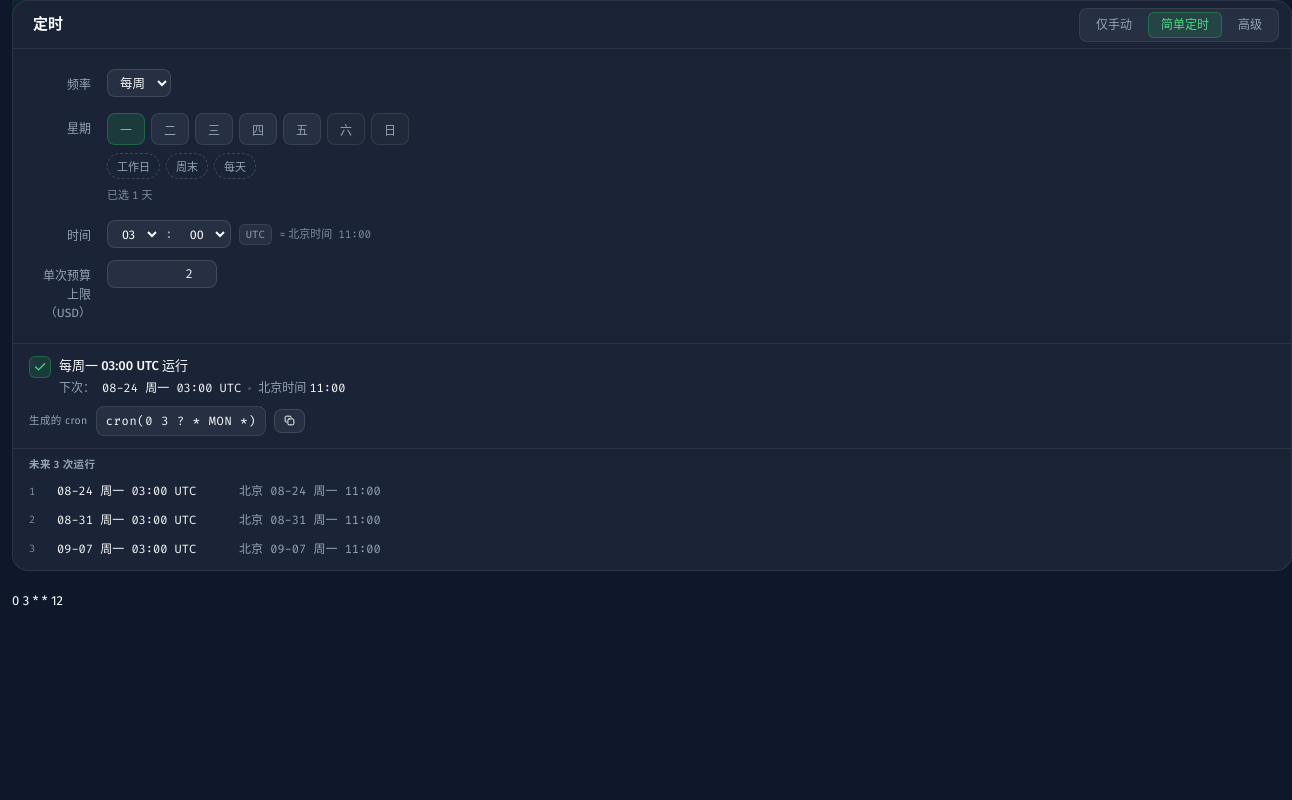
Test: SchedulePicker：简单档 › 星期 chips 可增减，quick 快捷（工作日/周末/每天）整组替换
Click the button with test id "sched-day-3". click: point(214, 129)
box: [195,113,233,145]
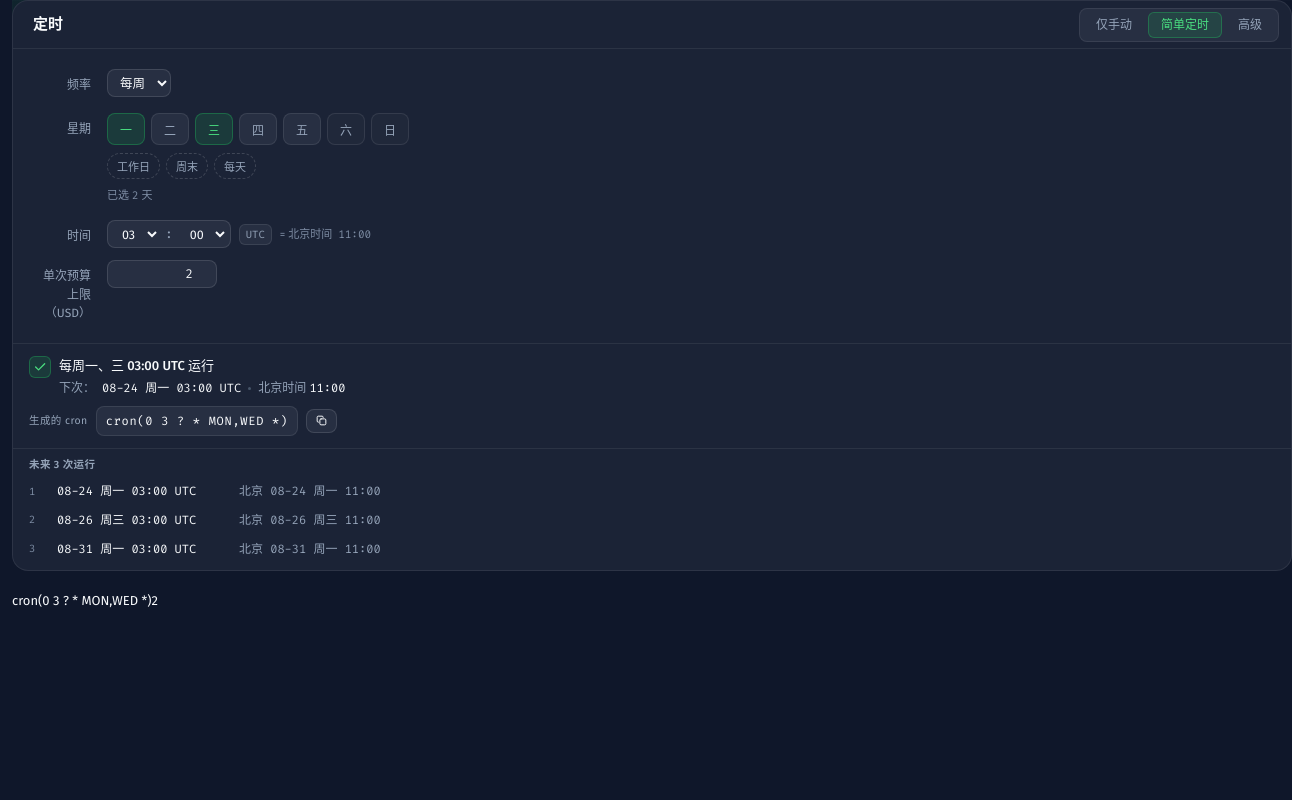
Check: the text "cron(0 3 ? * MON,WED *)" next to "生成的 cron" is shown, box [106,413,288,429]
Click the button with test id "sched-quick-workday". click: point(134, 166)
box: [107,153,160,179]
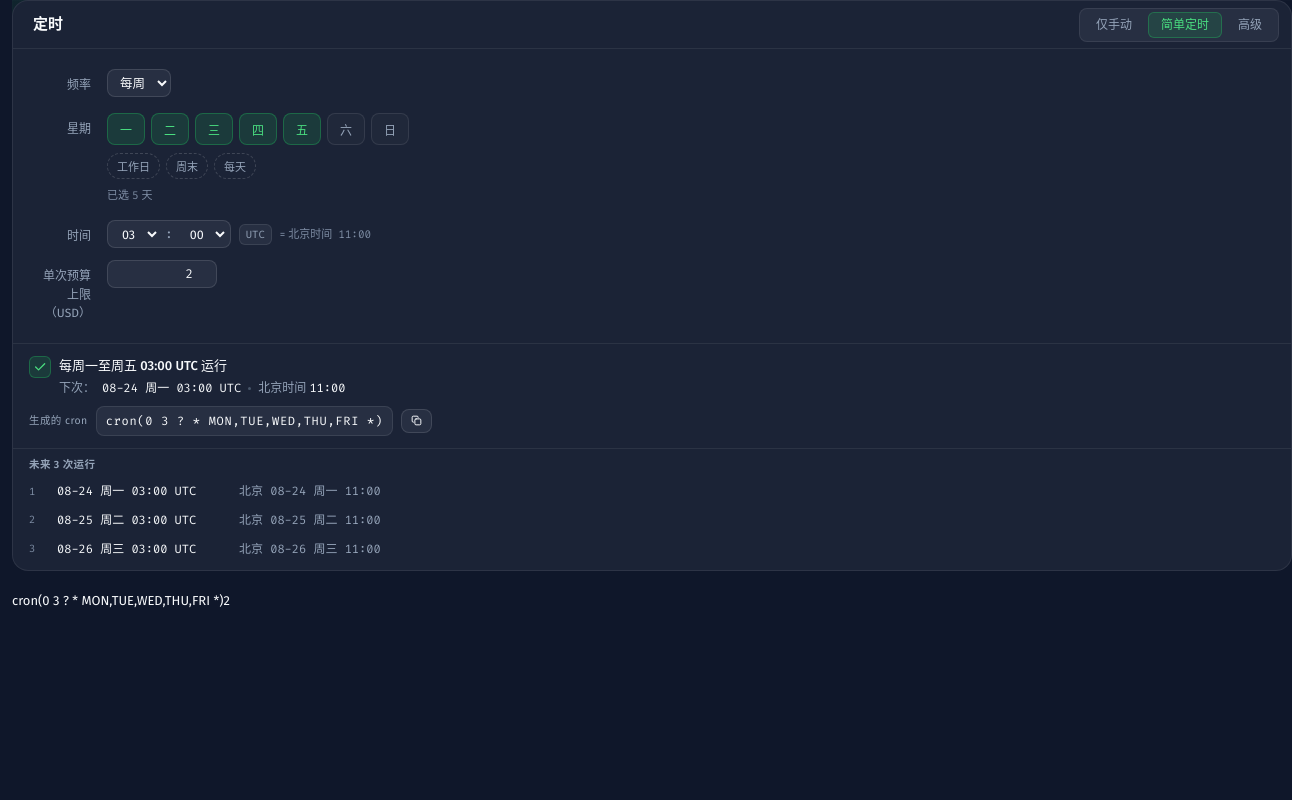
Check: the text "cron(0 3 ? * MON,TUE,WED,THU,FRI *)" next to "生成的 cron" is shown, box [106,413,383,429]
Click the button with test id "sched-quick-weekend". click: point(187, 166)
box: [166,153,208,179]
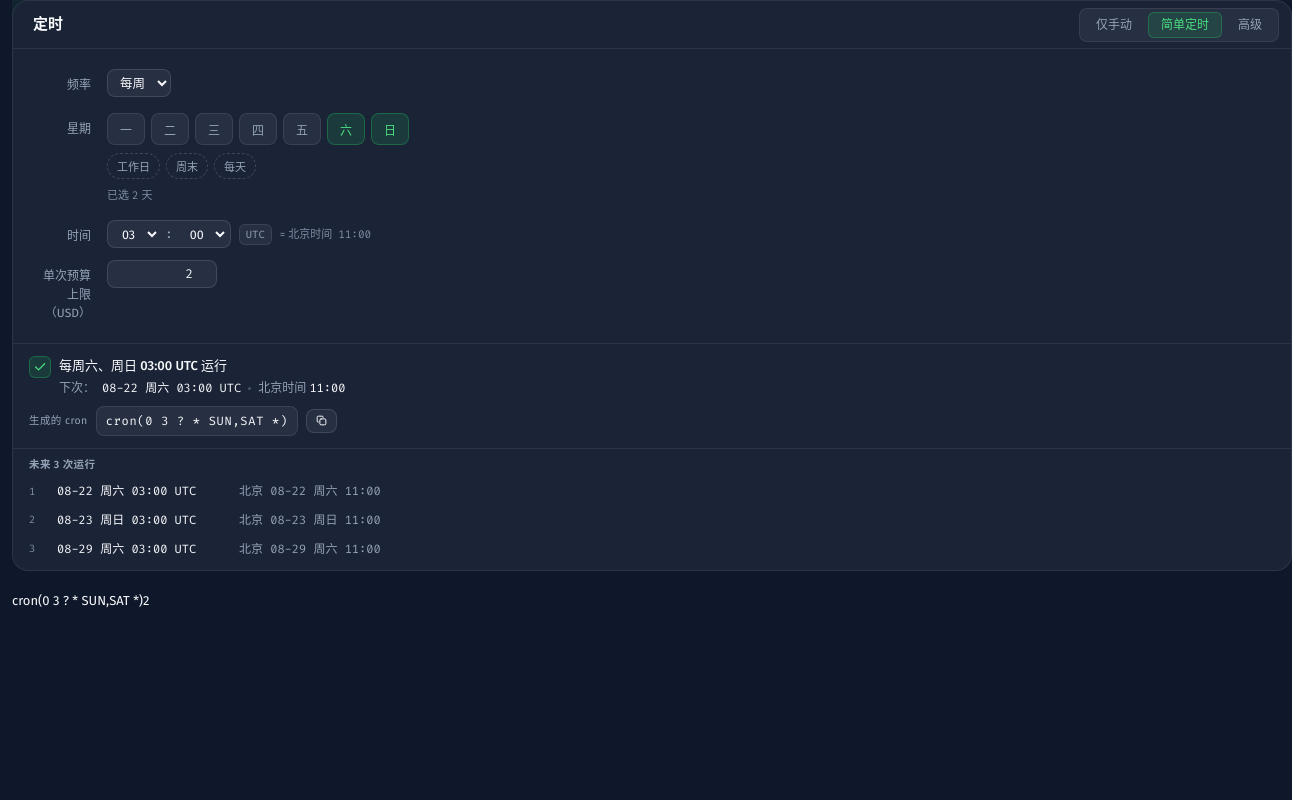
Check: the text "cron(0 3 ? * SUN,SAT *)" next to "生成的 cron" is shown, box [106,413,288,429]
Click the button with test id "sched-quick-all". click: point(235, 166)
box: [214,153,256,179]
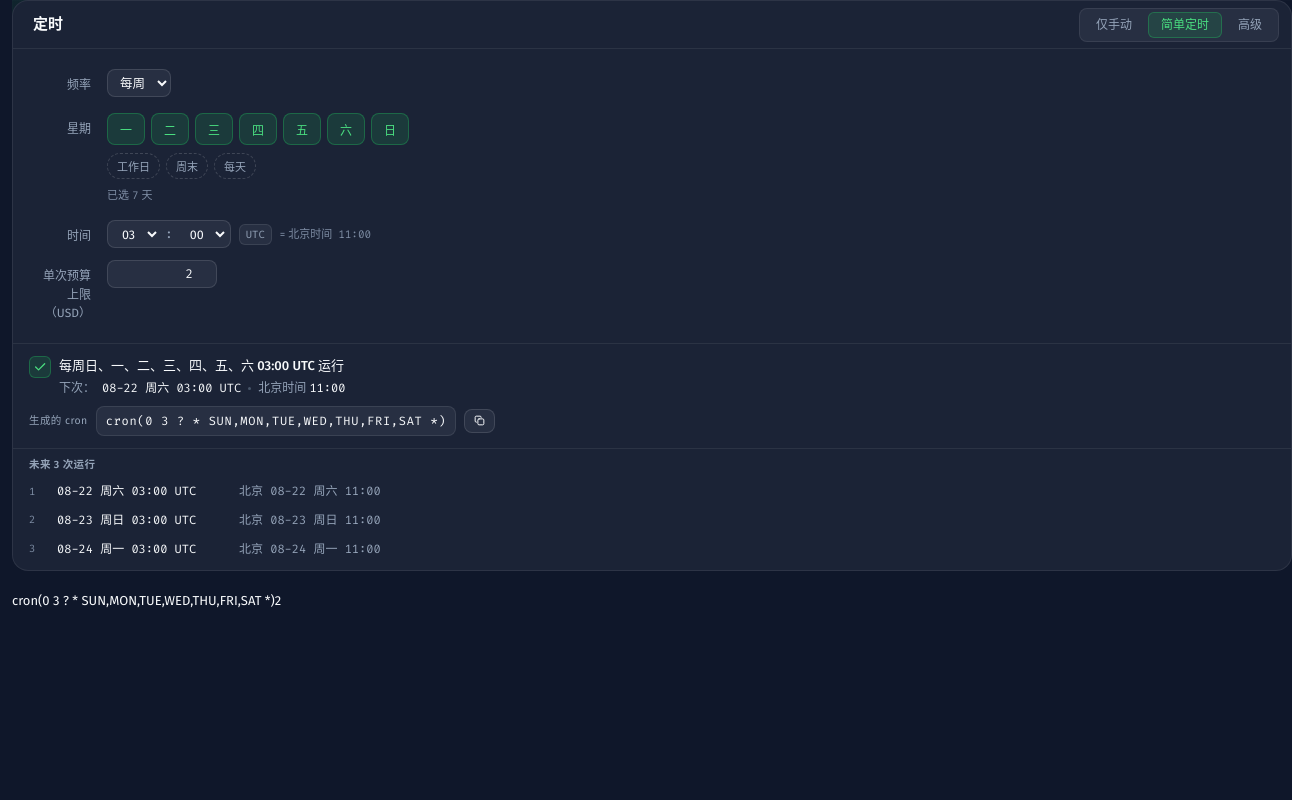
Check: the text "cron(0 3 ? * SUN,MON,TUE,WED,THU,FRI,SAT *)" next to "生成的 cron" is shown, box [106,413,446,429]
